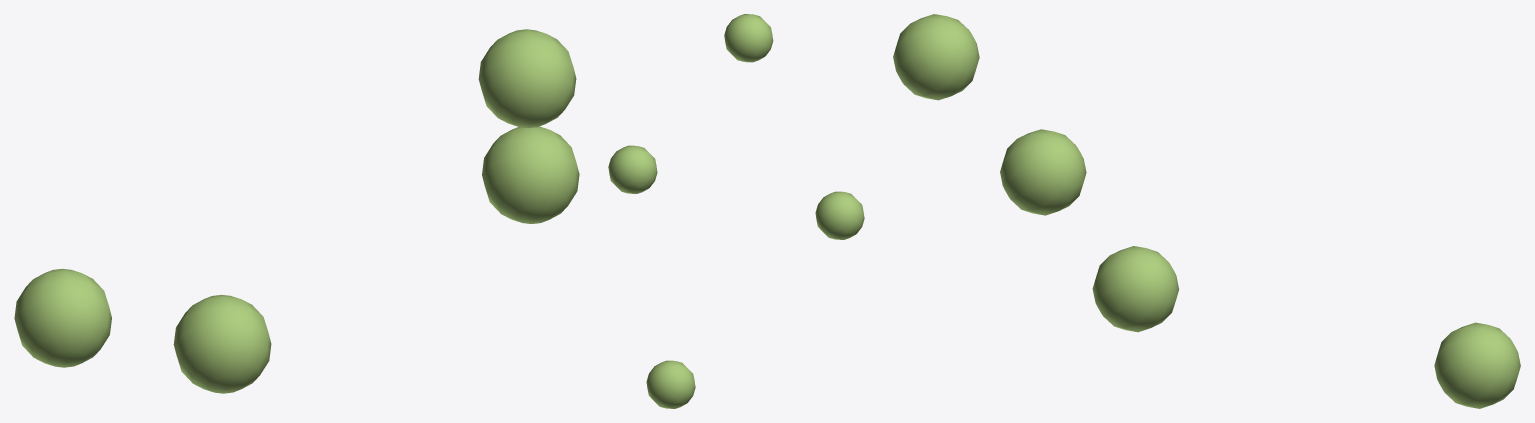
File: inferior-gluteal-nodes-r.glb
3 renders of one model, left to right at view 1: azimuth 30°, elevation 25°; view 2: azimuth 150°, elevation 25°; view 3: azimuth 270°, elevation 25°, orthographic. The views are drawn at different scales.
Parts seen in each view (by area): view 1: Inferior gluteal nodes.r; view 2: Inferior gluteal nodes.r; view 3: Inferior gluteal nodes.r.
Boxes of the visible parts, x1,y1,x2,y2 form: Inferior gluteal nodes.r: (14,29,579,393); Inferior gluteal nodes.r: (608,14,864,408); Inferior gluteal nodes.r: (893,14,1520,408).
Size of the model in its own units: 0.0135 by 0.015 by 0.0188.
